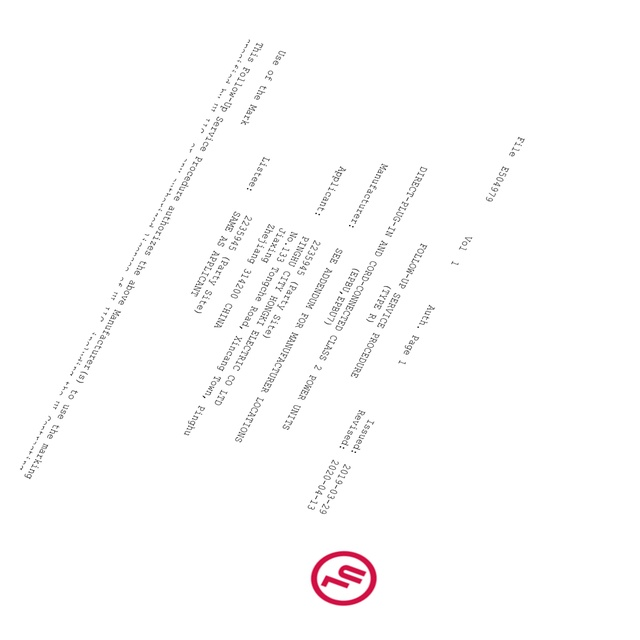ul: (308, 549, 378, 607)
